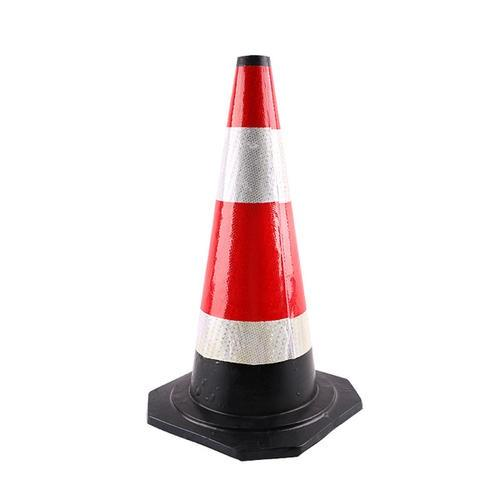cone_barrel: (161, 64, 338, 443)
